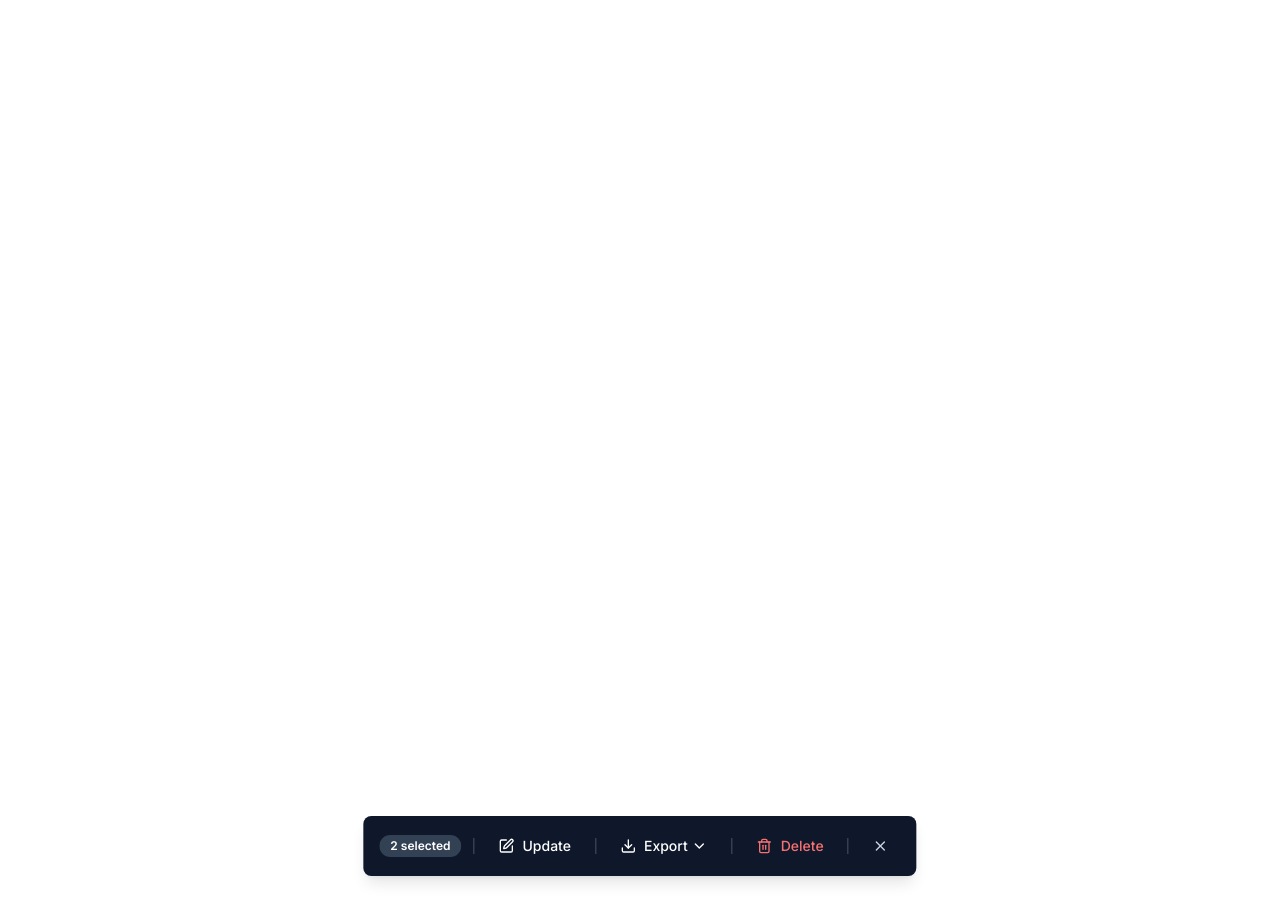
BulkOperationsBarEnhanced › handles rolledBack=true without throwing
This screenshot has width=1280, height=900.
Click the button "Update" at (535, 846), box [486,828,583,864]
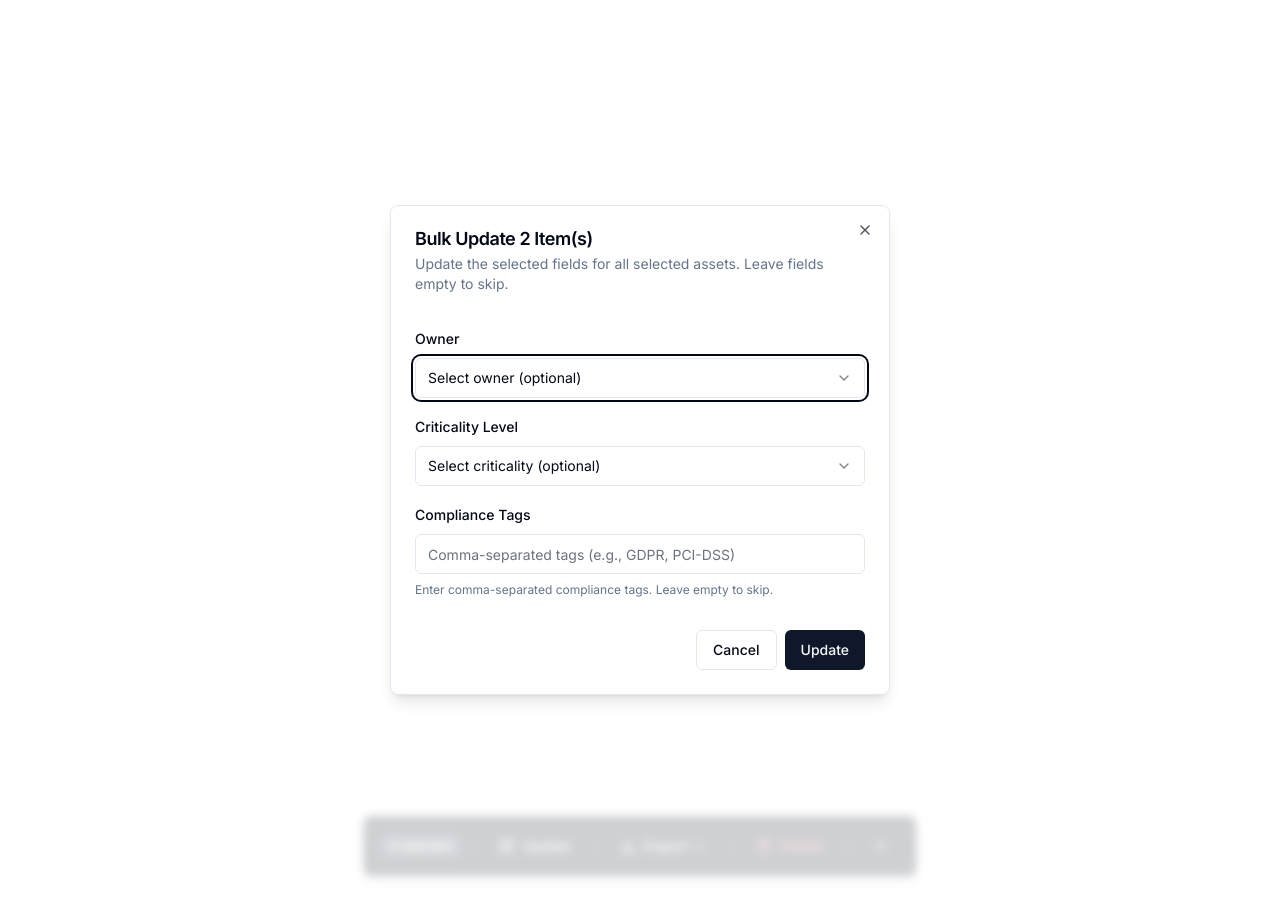
Click the button "Update" at (825, 650), box [784,630,865,670]
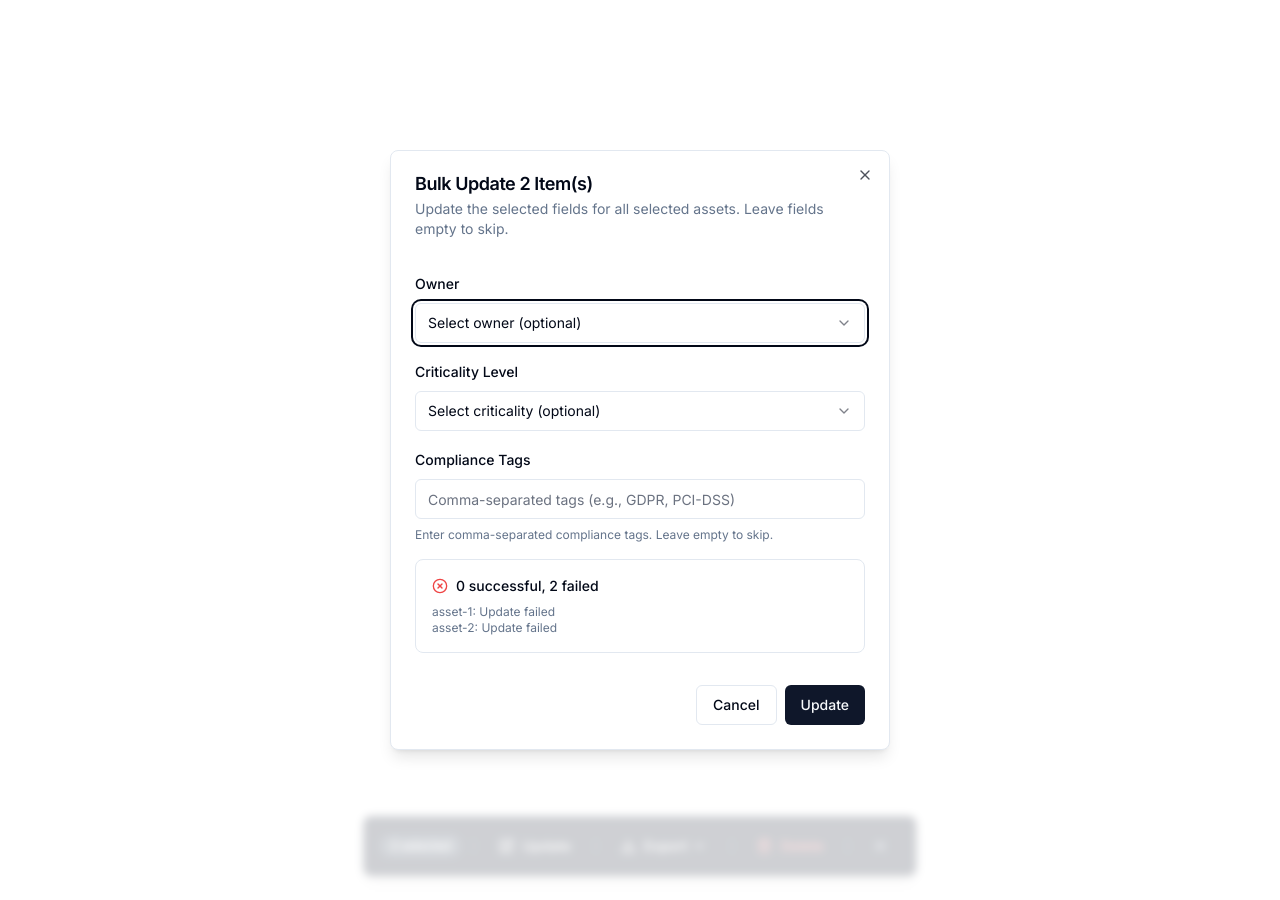
Check: the text "0 successful, 2 failed" is shown, box [456,576,599,596]
